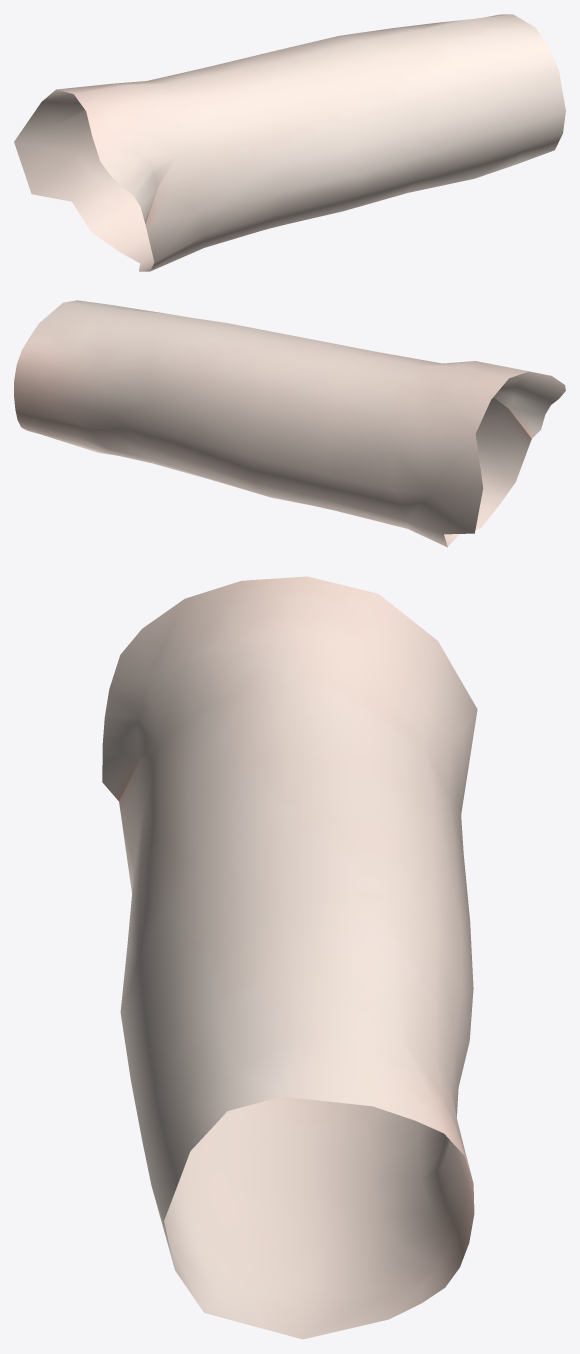
Rendered from Koharu_Antebrazo_1.obj.
3 views of the same model, one above another, from view 1: azimuth 30°, elevation 25°; view 2: azimuth 150°, elevation 25°; view 3: azimuth 270°, elevation 25° (orthographic). The views are drawn at different scales.
Visible parts, largest first — view 1: Antebrazo_1_Body_큐브.005; view 2: Antebrazo_1_Body_큐브.005; view 3: Antebrazo_1_Body_큐브.005.
Boxes of the visible parts, x1,y1,x2,y2 form: Antebrazo_1_Body_큐브.005: [14, 14, 565, 271]; Antebrazo_1_Body_큐브.005: [14, 300, 565, 547]; Antebrazo_1_Body_큐브.005: [102, 576, 477, 1339].
Size of the model in its own units: 0.155 by 0.0555 by 0.0534.
